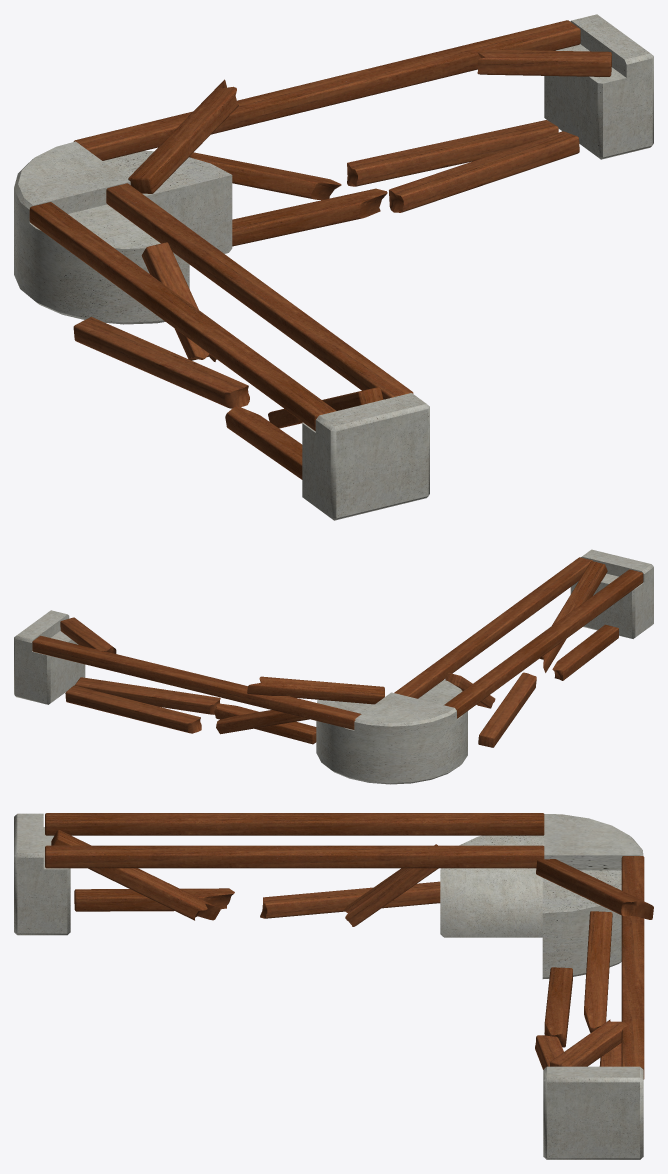
Rendered from Bench01_5.FBX.
3 views of the same model, one above another, from view 1: azimuth 30°, elevation 25°; view 2: azimuth 150°, elevation 25°; view 3: azimuth 270°, elevation 25° (orthographic). The views are drawn at different scales.
Parts seen in each view (by area): view 1: Wood, Concrete; view 2: Wood, Concrete; view 3: Wood, Concrete.
Boxes of the visible parts, box(x1,y1,x2,y2) form: Wood: box(29, 20, 611, 479); Concrete: box(14, 14, 653, 520); Wood: box(32, 557, 643, 747); Concrete: box(14, 549, 653, 784); Wood: box(45, 813, 653, 1079); Concrete: box(14, 813, 643, 1159).
Bounding box in the file's own units: 111 × 19.86 × 111.
